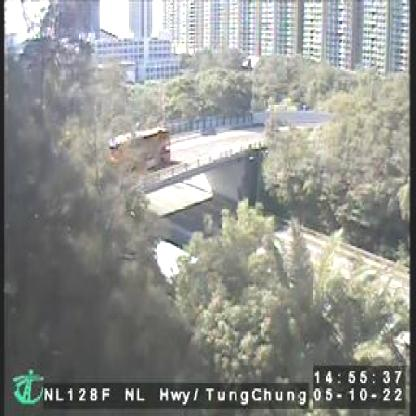Bus: (108, 127, 169, 175)
